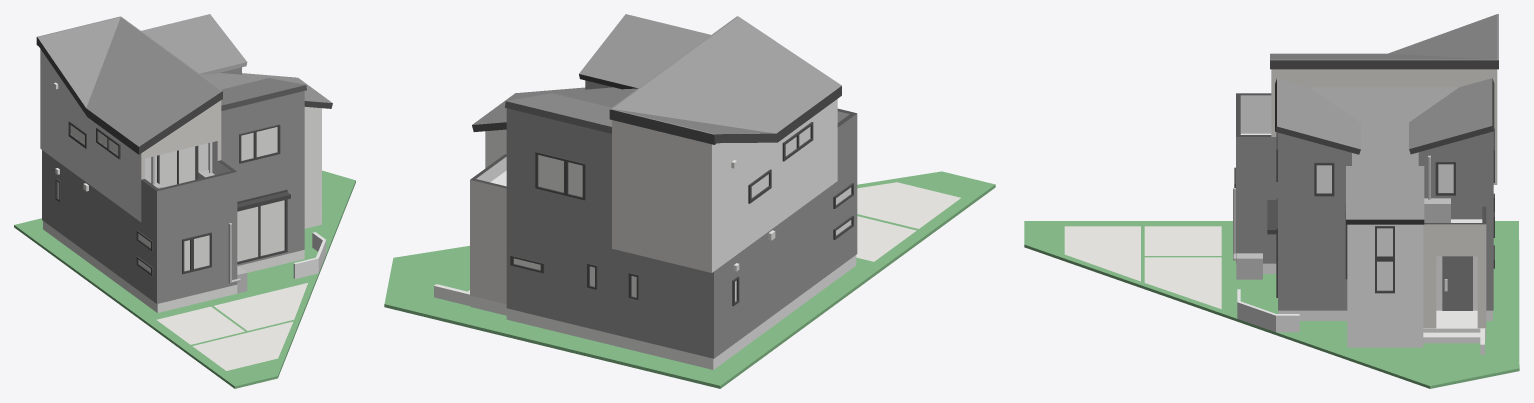
File: home_with_mtl.glb
3 views of the same model, side by side, from view 1: azimuth 30°, elevation 25°; view 2: azimuth 150°, elevation 25°; view 3: azimuth 270°, elevation 25° (orthographic). The views are drawn at different scales.
Parts seen in each view (by area): view 1: パウダー_コート(ダーク_グレー), パウダー_コート(緑), アルミニウム_-_ビーズ_ブラスト, ベース_マテリアル_-_積層, プラスチック_-_マット(黒), アクリル(クリア), HP_3D_HR_CB_PA_12_(HP_Jet_Fusion_580_カラー_3D_プリンター使用), ペイント_-_エナメル_光沢(白), 窒化アルミニウム(AlN), 鋼_-_サテン; view 2: パウダー_コート(ダーク_グレー), 窒化アルミニウム(AlN), パウダー_コート(緑), アルミニウム_-_ビーズ_ブラスト, プラスチック_-_マット(黒), ベース_マテリアル_-_積層, HP_3D_HR_CB_PA_12_(HP_Jet_Fusion_580_カラー_3D_プリンター使用), アクリル(クリア), ペイント_-_エナメル_光沢(白), Rilsan_Invent_Natural_-_PA_11; view 3: パウダー_コート(ダーク_グレー), パウダー_コート(緑), ベース_マテリアル_-_積層, 窒化アルミニウム(AlN), ペイント_-_エナメル_光沢(白), プラスチック_-_マット(黒), アルミニウム_-_ビーズ_ブラスト, HP_3D_HR_CB_PA_12_(HP_Jet_Fusion_580_カラー_3D_プリンター使用), アクリル(クリア), 鋼_-_サテン, PA_12_-_Nylon_-_PA_603-CF_(EOS_P_3D_プリンタ使用).
Part boxes in pixels (box(x1,y1,x2,y2)): パウダー_コート(ダーク_グレー): box(37, 14, 332, 303); パウダー_コート(緑): box(14, 170, 355, 388); アルミニウム_-_ビーズ_ブラスト: box(40, 49, 326, 278); ベース_マテリアル_-_積層: box(156, 283, 307, 370); プラスチック_-_マット(黒): box(36, 37, 332, 275); アクリル(クリア): box(57, 125, 284, 272); HP_3D_HR_CB_PA_12_(HP_Jet_Fusion_580_カラー_3D_プリンター使用): box(43, 215, 321, 312); ペイント_-_エナメル_光沢(白): box(53, 82, 321, 219); 窒化アルミニウム(AlN): box(141, 100, 221, 179); 鋼_-_サテン: box(151, 156, 247, 293); パウダー_コート(ダーク_グレー): box(472, 14, 857, 358); 窒化アルミニウム(AlN): box(470, 120, 711, 304); パウダー_コート(緑): box(384, 171, 995, 388); アルミニウム_-_ビーズ_ブラスト: box(476, 99, 849, 272); プラスチック_-_マット(黒): box(470, 74, 856, 306); ベース_マテリアル_-_積層: box(856, 182, 960, 261); HP_3D_HR_CB_PA_12_(HP_Jet_Fusion_580_カラー_3D_プリンター使用): box(468, 255, 856, 369); アクリル(クリア): box(514, 127, 851, 301); ペイント_-_エナメル_光沢(白): box(485, 129, 775, 271); Rilsan_Invent_Natural_-_PA_11: box(434, 284, 470, 305); パウダー_コート(ダーク_グレー): box(1236, 14, 1498, 310); パウダー_コート(緑): box(1024, 221, 1519, 388); ベース_マテリアル_-_積層: box(1064, 226, 1221, 309); 窒化アルミニウム(AlN): box(1271, 59, 1498, 328); ペイント_-_エナメル_光沢(白): box(1347, 224, 1423, 336); プラスチック_-_マット(黒): box(1234, 60, 1498, 297); アルミニウム_-_ビーズ_ブラスト: box(1237, 95, 1482, 332); HP_3D_HR_CB_PA_12_(HP_Jet_Fusion_580_カラー_3D_プリンター使用): box(1263, 263, 1492, 347); アクリル(クリア): box(1316, 164, 1453, 290); 鋼_-_サテン: box(1233, 155, 1450, 279); PA_12_-_Nylon_-_PA_603-CF_(EOS_P_3D_プリンタ使用): box(1442, 256, 1472, 310).
Bounding box in the file's own units: 25.48 × 15.63 × 32.28.
